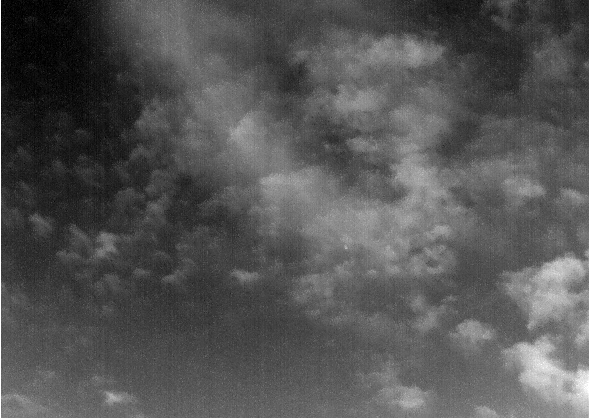dim target: (343, 244, 349, 250)
